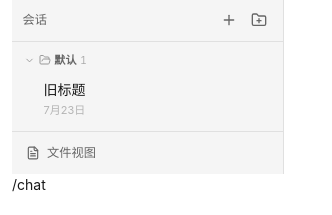
Test case: SessionList › rename › submitting a new title updates the store via the title API
Double-click the text "旧标题".
double_click(64, 90)  # box [44, 79, 86, 100]
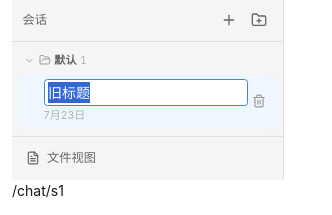
Replace the text in the field named "编辑会话标题" with "新标题" at (146, 92), box [44, 79, 248, 106]
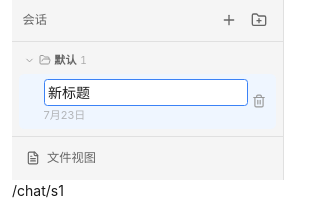
Press Enter
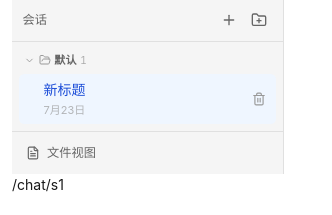
Result: the text "新标题" is shown at [44, 79, 86, 100]
